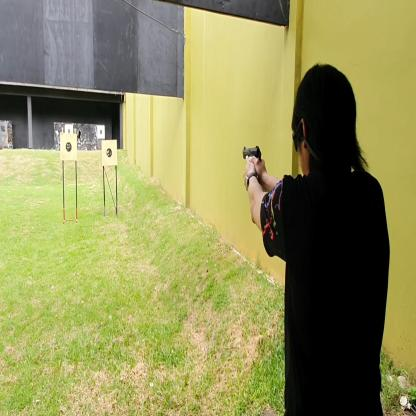handgun: (240, 143, 262, 163)
